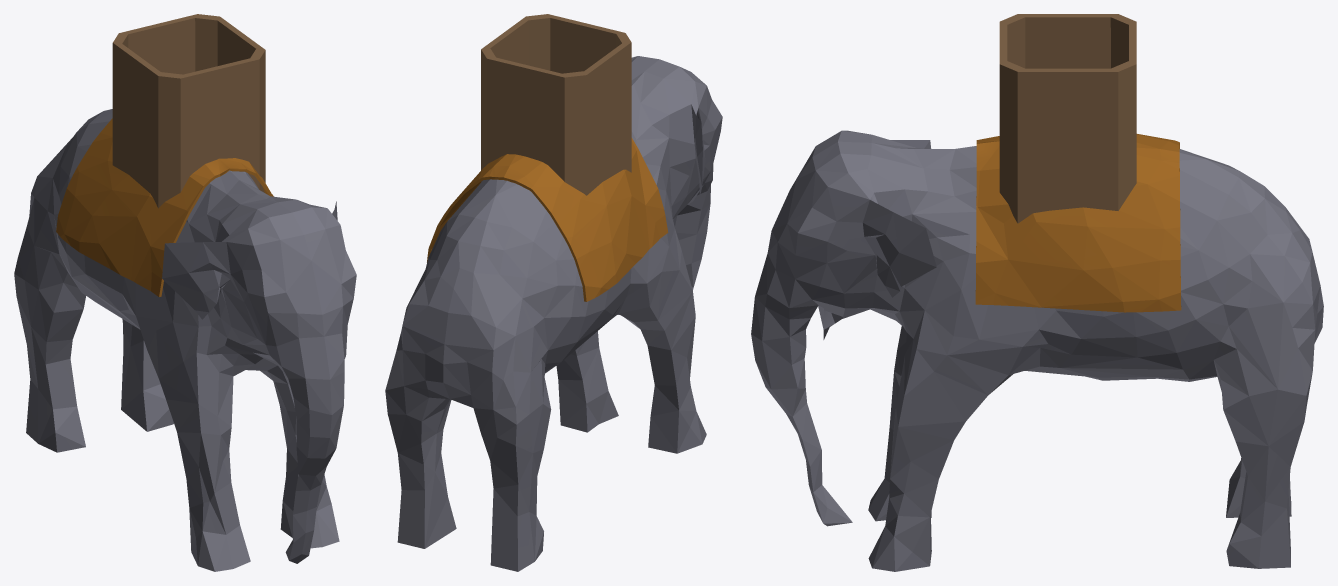
The model's file is War_Elephant.fbx.
3 renders of one model, left to right at view 1: azimuth 30°, elevation 25°; view 2: azimuth 150°, elevation 25°; view 3: azimuth 270°, elevation 25°, orthographic. The views are drawn at different scales.
Visible parts, largest first — view 1: War Elephant; view 2: War Elephant; view 3: War Elephant.
Boxes of the visible parts, x1,y1,x2,y2 form: War Elephant: (14,14,356,571); War Elephant: (385,14,722,571); War Elephant: (751,14,1323,571).
Size of the model in its own units: 386 by 938 by 990.
